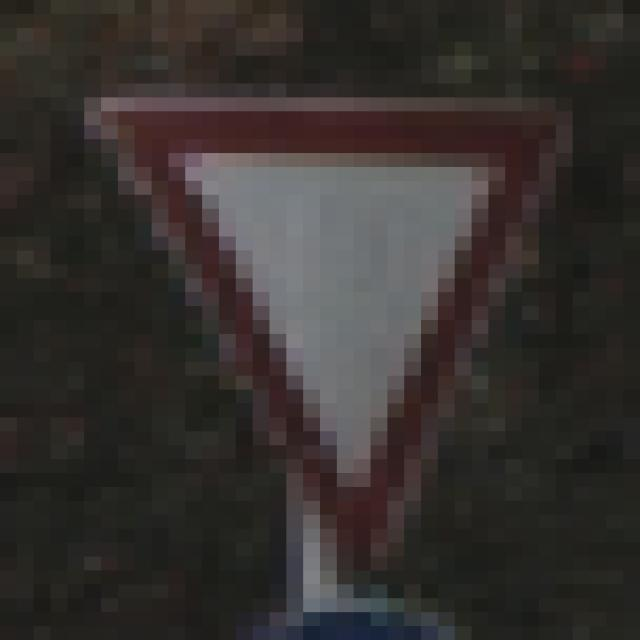Give Way: (85, 71, 557, 572)
